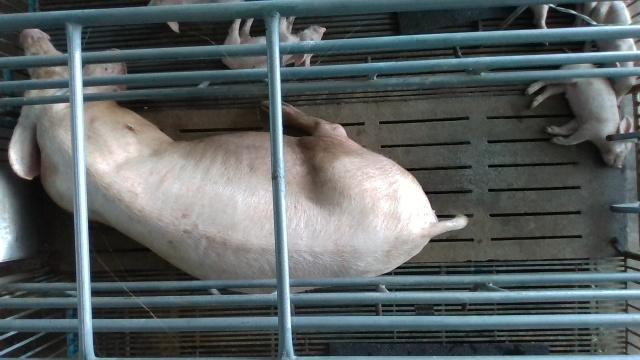piglet: (528, 63, 636, 169), (218, 16, 325, 71), (586, 0, 640, 106)
sow-sit: (6, 26, 468, 295)
